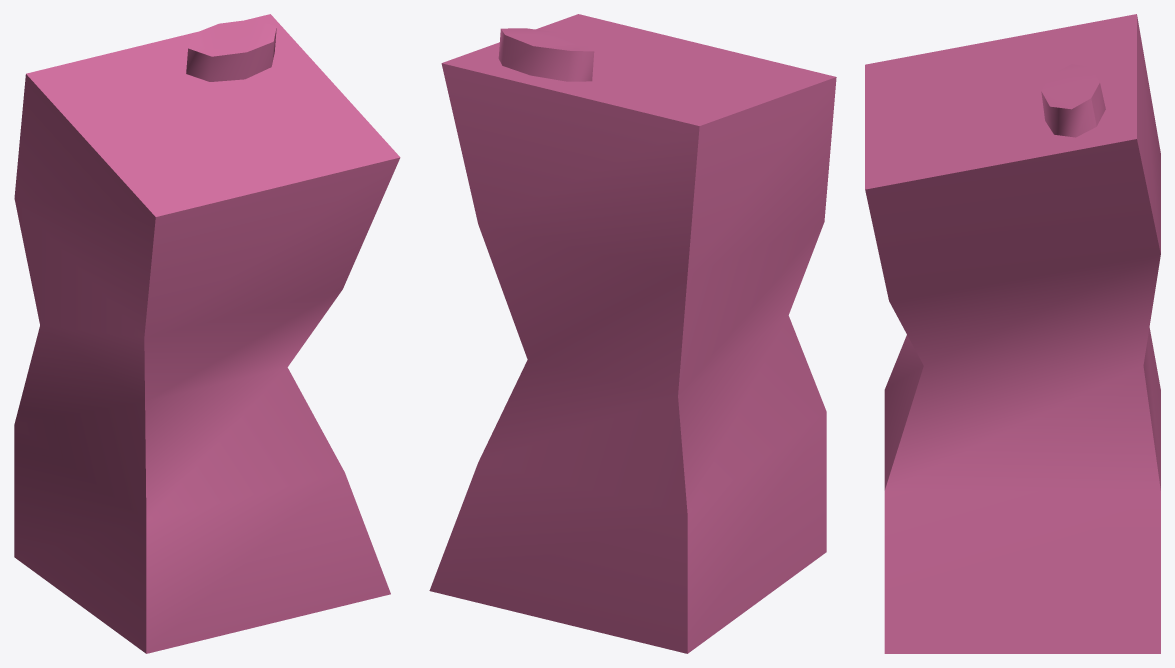
Rendered from MilkBox.fbx.
3 renders of one model, left to right at view 1: azimuth 30°, elevation 25°; view 2: azimuth 150°, elevation 25°; view 3: azimuth 270°, elevation 25°, orthographic. The views are drawn at different scales.
Visible parts, largest first — view 1: milk0; view 2: milk0; view 3: milk0.
Part boxes in pixels (<box>): milk0: <box>14,14,400,653</box>; milk0: <box>429,14,836,653</box>; milk0: <box>865,14,1160,653</box>.
Bounding box in the file's own units: 50 × 100 × 50.
